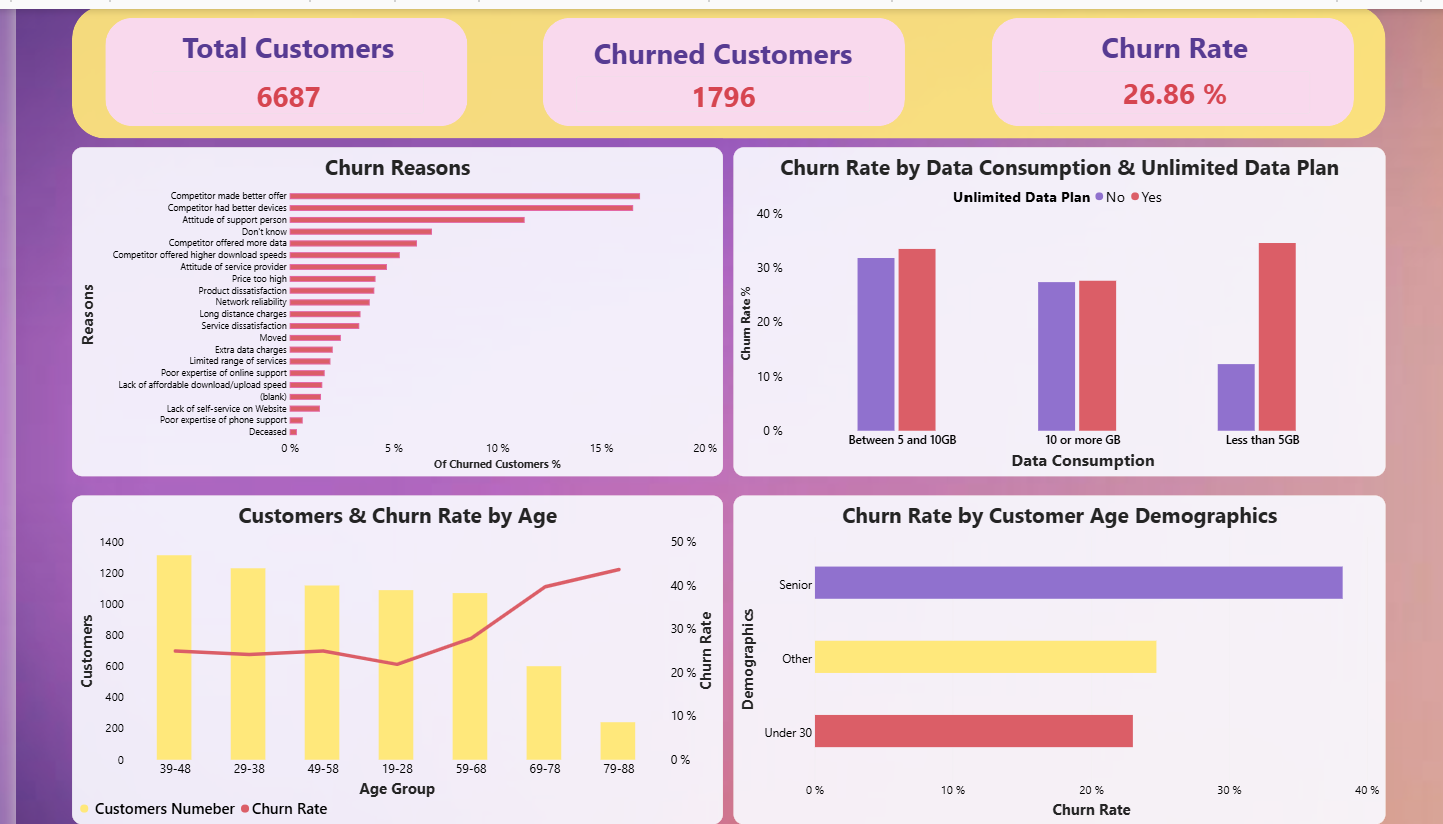

The dashboard page shown, as its layout file describes it:
{"tool":"powerbi","page":{"name":"Page ١","canvas":[4100,2500],"ordinal":0},"visuals":[{"type":"shape","box":[160,90,3750,380],"z":0},{"type":"shape","box":[255,125,1035,310],"z":1000},{"type":"shape","box":[1505,125,1035,310],"z":2000},{"type":"shape","box":[2785,125,1035,310],"z":3000},{"type":"clusteredBarChart","title":"Churn Reasons","fields":{"Category":["Sheet1.Reasons"],"Y":["Sum(Sheet1.Churned Customers)"]},"box":[160,495,1860,940],"z":4000},{"type":"clusteredBarChart","title":"Churn Rate by Customer Age Demographics","fields":{"Category":["Sheet1.Customer Age Group"],"Y":["Sum(Sheet1. Churn Rate %)"]},"box":[2050,1490,1860,940],"z":5000},{"type":"lineClusteredColumnComboChart","title":"Customers & Churn Rate by Age","fields":{"Category":["Sheet1.Age Group"],"Y":["Sum(Sheet1.Customers Numeber)"],"Y2":["Sum(Sheet1.Churn)"]},"box":[160,1490,1860,940],"z":6000},{"type":"cardVisual","title":"Total Customers","fields":{"Data":["Sum(Sheet1.Total Customers)"]},"box":[390,155,775,245],"z":7000},{"type":"cardVisual","title":"Churned Customers","fields":{"Data":["Sum(Sheet1.Churned Customers_1)"]},"box":[1600,170,840,225],"z":8000},{"type":"cardVisual","title":"Churn Rate","fields":{"Data":["Sum(Sheet1.Churn Rate)"]},"box":[2920,155,775,245],"z":9000},{"type":"clusteredColumnChart","title":"Churn Rate by Data Consumption & Unlimited Data Plan","fields":{"Category":["Sheet1.Group_2"],"Series":["Sheet1.Data Plan"],"Y":["Avg(Sheet1.Churn Rate ??)"]},"box":[2050,495,1860,940],"z":10000}]}

Visuals, with their boxes in screenshot pixels (x1, y1, x2, y2):
shape: BBox(71, 1, 1379, 134)
shape: BBox(104, 14, 465, 122)
shape: BBox(540, 14, 901, 122)
shape: BBox(987, 14, 1348, 122)
"Churn Reasons" clusteredBarChart: BBox(71, 143, 720, 471)
"Churn Rate by Customer Age Demographics" clusteredBarChart: BBox(730, 490, 1379, 818)
"Customers & Churn Rate by Age" lineClusteredColumnComboChart: BBox(71, 490, 720, 818)
"Total Customers" cardVisual: BBox(151, 24, 422, 110)
"Churned Customers" cardVisual: BBox(573, 29, 866, 108)
"Churn Rate" cardVisual: BBox(1034, 24, 1304, 110)
"Churn Rate by Data Consumption & Unlimited Data Plan" clusteredColumnChart: BBox(730, 143, 1379, 471)
